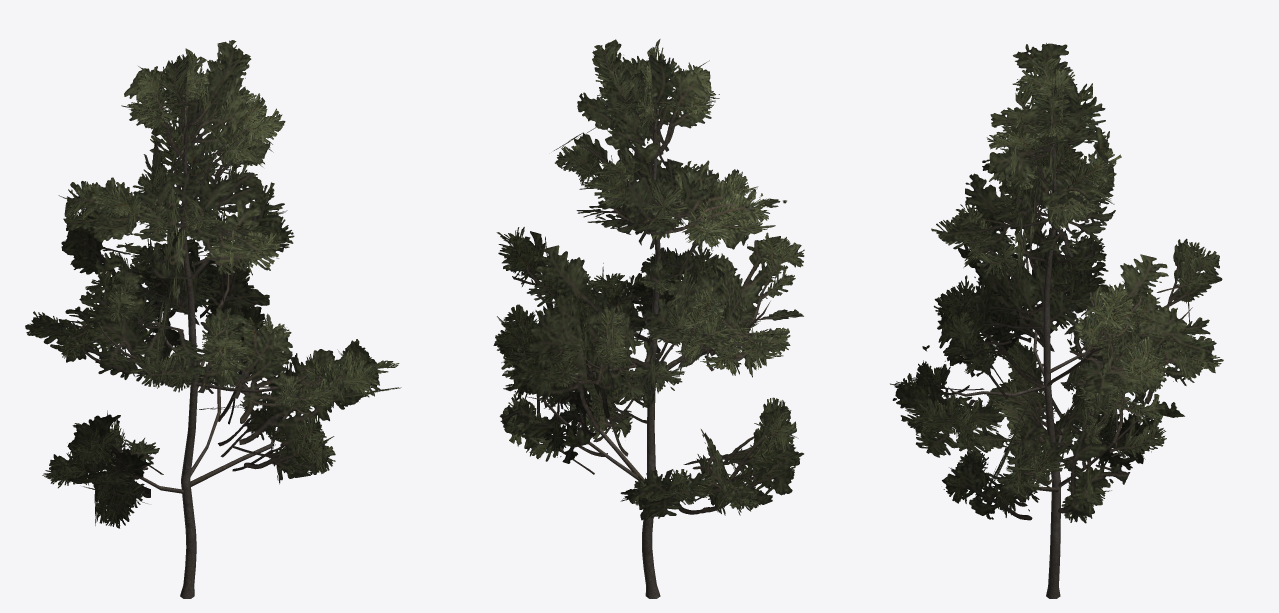
Rendered from tree.gltf.
3 renders of one model, left to right at view 1: azimuth 30°, elevation 25°; view 2: azimuth 150°, elevation 25°; view 3: azimuth 270°, elevation 25°, orthographic.
Visible parts, largest first — view 1: pine_sapling, pine_sapling_far; view 2: pine_sapling_far, pine_sapling; view 3: pine_sapling_far, pine_sapling.
Part boxes in pixels (left/top/right/bottom): pine_sapling: left=25, top=40, right=399, bottom=598; pine_sapling_far: left=31, top=42, right=401, bottom=525; pine_sapling_far: left=493, top=39, right=803, bottom=520; pine_sapling: left=494, top=39, right=804, bottom=598; pine_sapling_far: left=892, top=43, right=1222, bottom=523; pine_sapling: left=890, top=43, right=1223, bottom=598.
Bounding box in the file's own units: 0.8715 × 1.38 × 0.872.
Materials: 2 (2 with a texture image).
